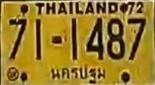1: (71, 18, 76, 60), (35, 18, 40, 59)
4: (86, 17, 103, 59)
7: (127, 17, 145, 59), (8, 18, 26, 59)
8: (106, 17, 124, 59)
NPT: (47, 63, 107, 85)
